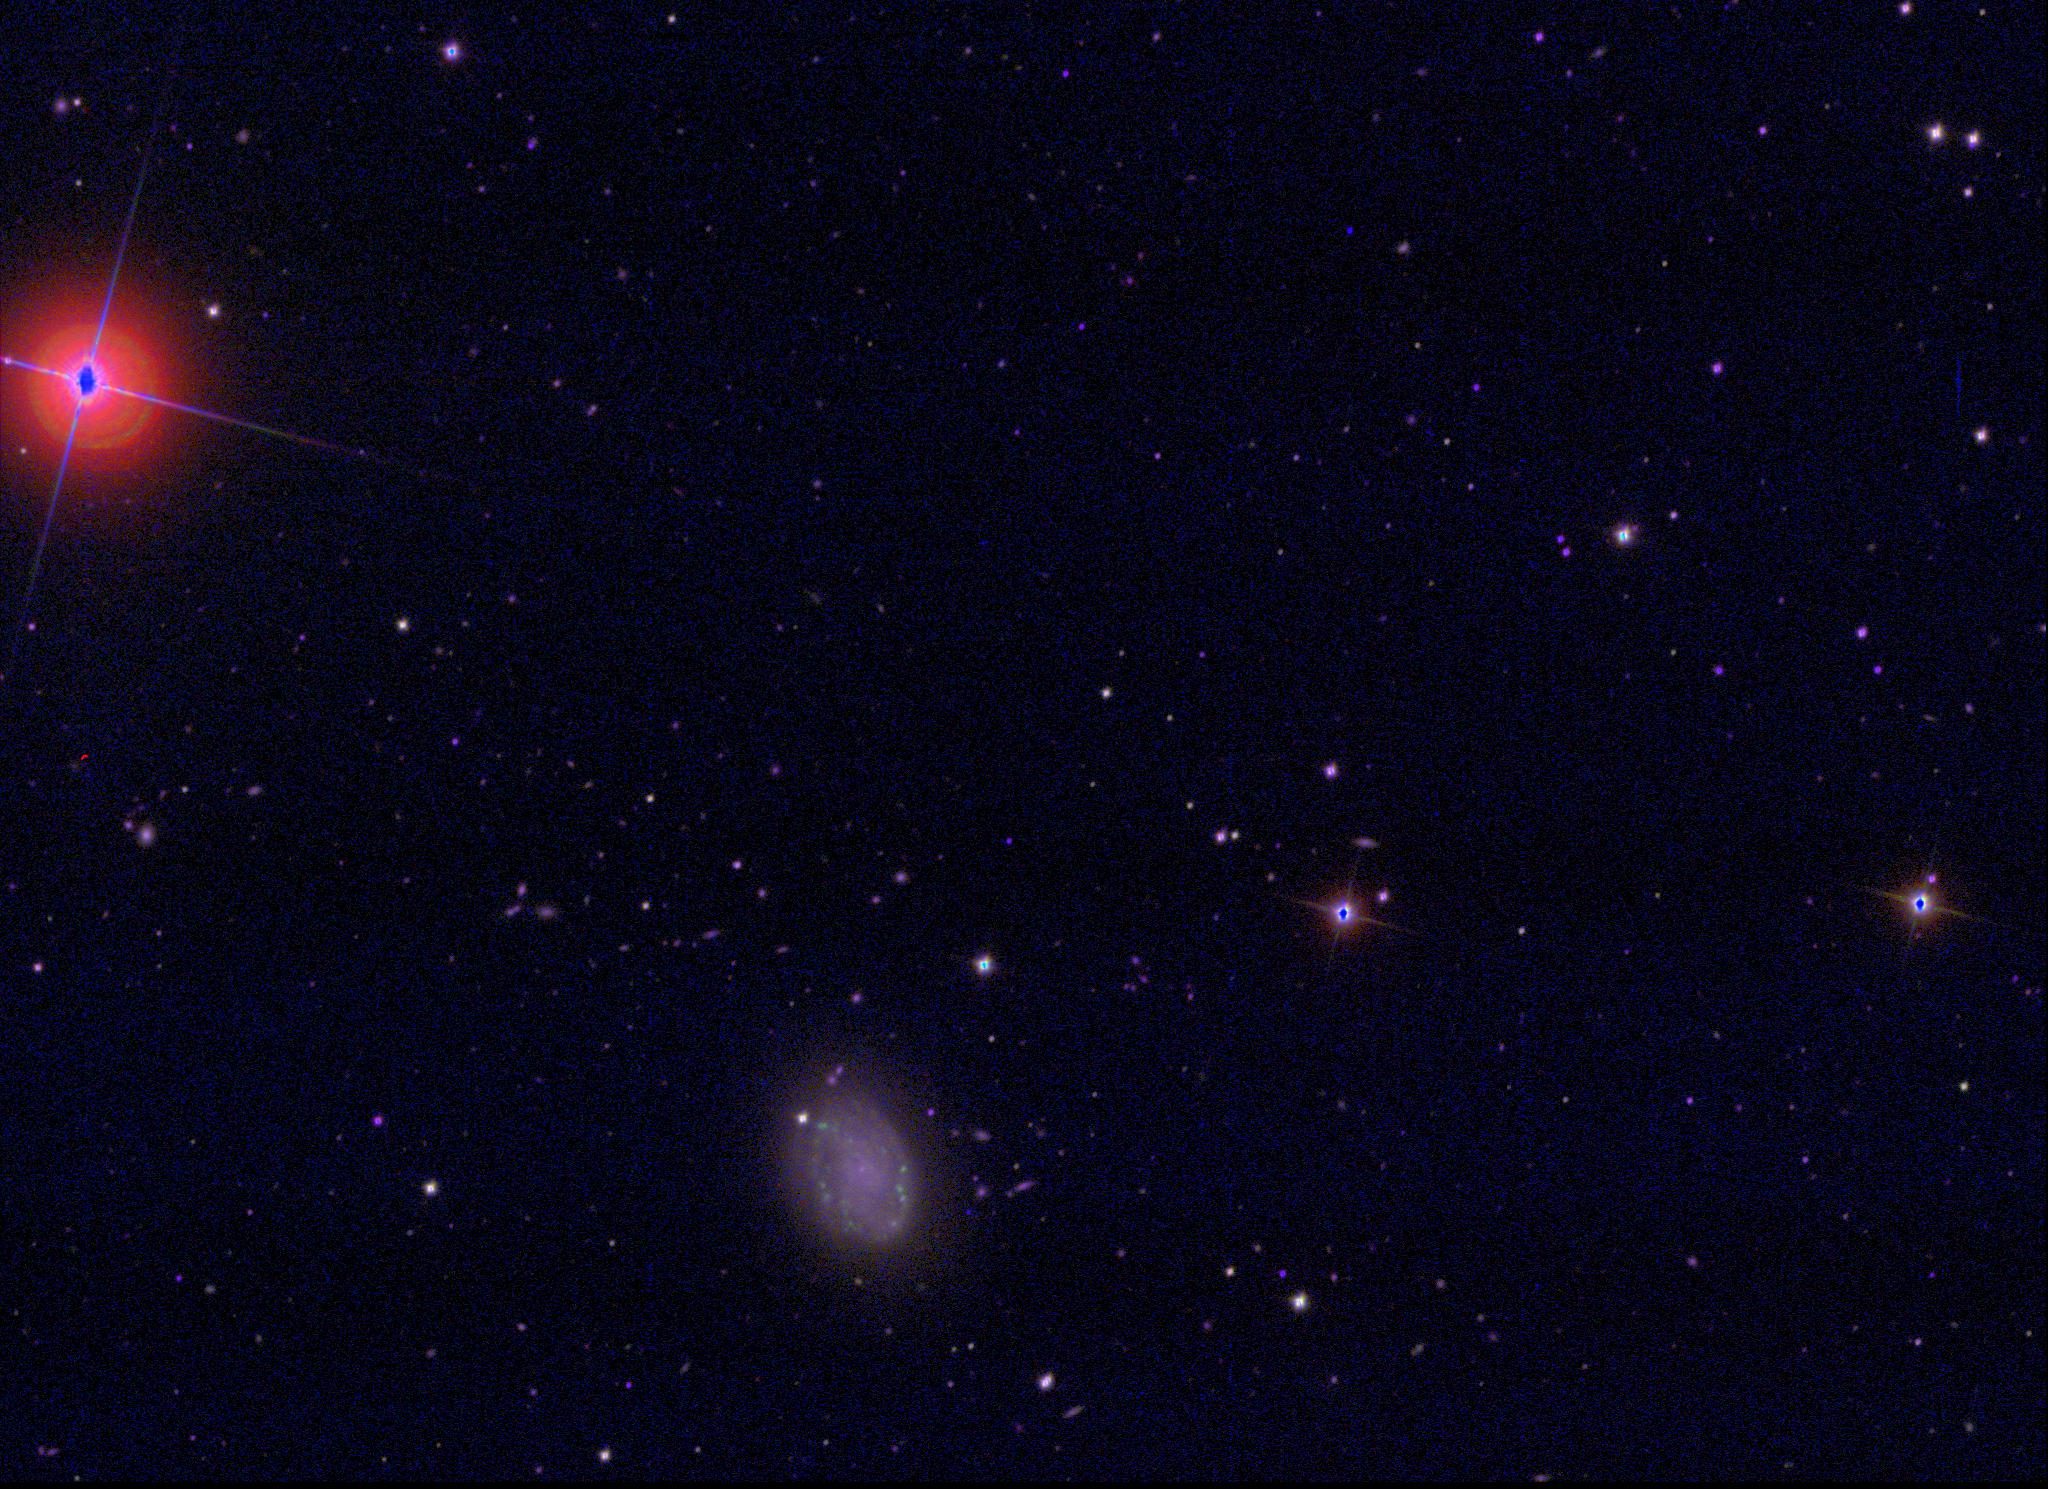L: (1340, 224, 1355, 239)
